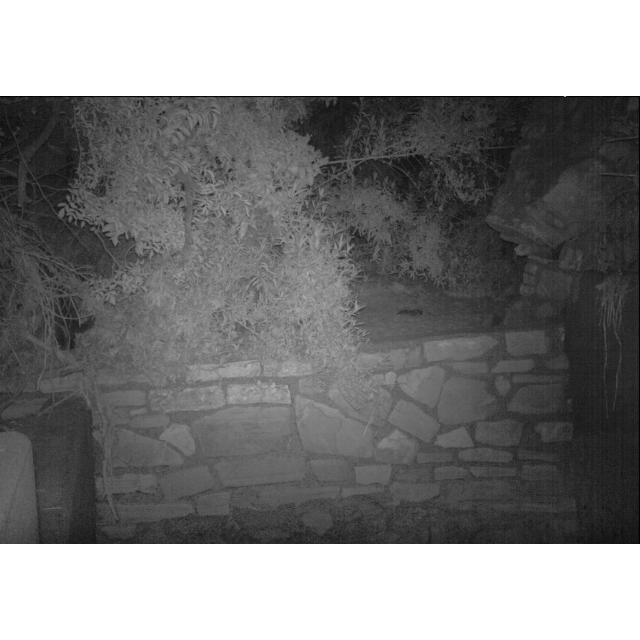animals: (37, 286, 99, 358)
